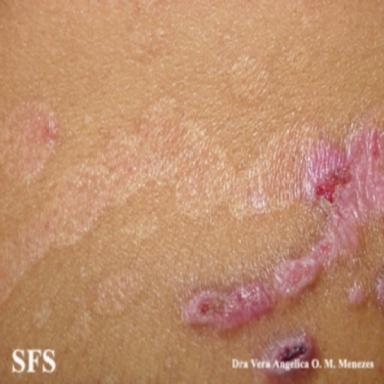Epidermolysis-Bullosa-Pruriginosa: (181, 131, 384, 328), (262, 330, 319, 360), (347, 266, 384, 307)
